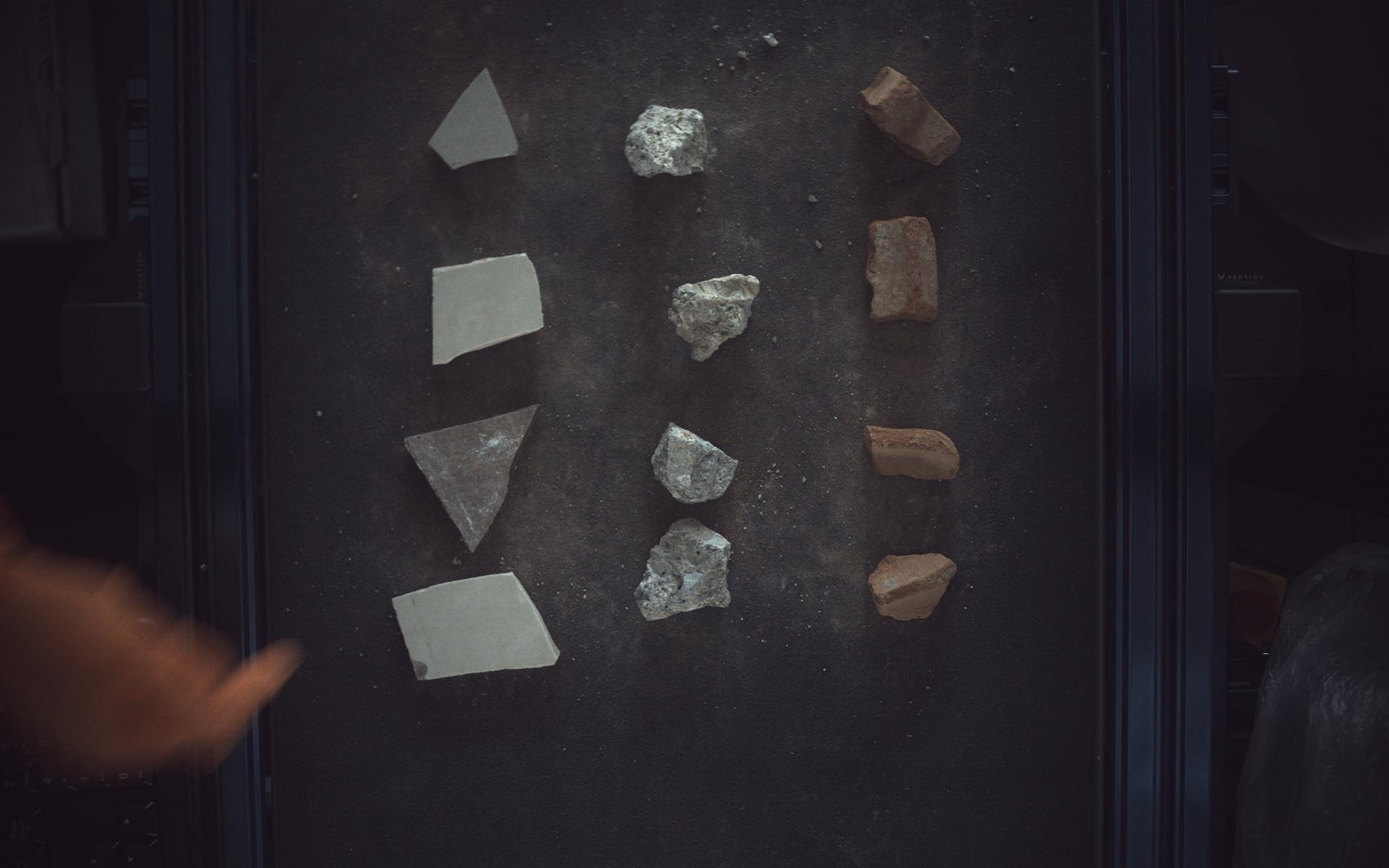brick: (859, 65, 962, 164), (867, 215, 940, 322), (871, 553, 959, 621), (867, 425, 961, 480)
concrete: (636, 519, 732, 621), (669, 273, 761, 361), (653, 422, 739, 504), (626, 103, 715, 176)
tile: (404, 405, 538, 553), (392, 573, 560, 681), (433, 253, 544, 365), (429, 67, 519, 169)
